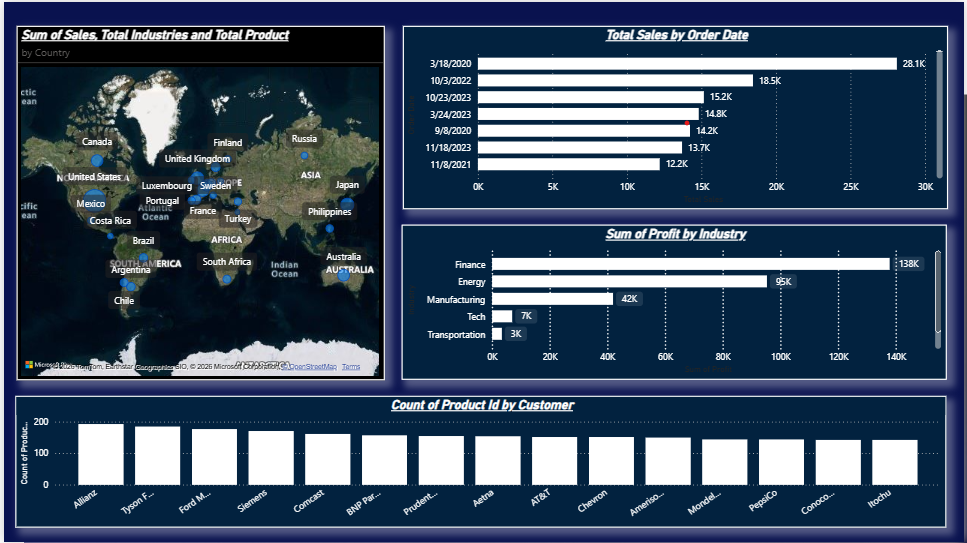

Layout of this report page (visuals, bound fields, positions):
{"tool":"powerbi","page":{"name":"Sales Analysis","canvas":[1280,720],"ordinal":1},"visuals":[{"type":"map","fields":{"Category":["Customer.Country Hierarchy.Country","Customer.Country Hierarchy.City"],"Size":["Sum(Order.Sales)"]},"box":[16.9,31.4,491,472.9],"z":0},{"type":"clusteredBarChart","fields":{"Category":["Products.Industry"],"Y":["Sum(Order.Profit)"]},"box":[529.6,296.8,727.5,207.5],"z":1000},{"type":"clusteredBarChart","fields":{"Category":["Order.Order Date"],"Y":["Sum(Order.Sales)"]},"box":[530.8,31.4,727.5,244.9],"z":2000},{"type":"columnChart","fields":{"Category":["Customer.Customer"],"Y":["CountNonNull(Order.Product Id)"]},"box":[15.7,524.8,1241.4,176.1],"z":2001}]}

Visuals, with their boxes in screenshot pixels (x1, y1, x2, y2), scaled from the page's 1280x720 canvas onto the 967x543 screenshot:
map - Customer.Country Hierarchy.Country x Customer.Country Hierarchy.City: [x1=13, y1=24, x2=384, y2=380]
clusteredBarChart - Products.Industry x Sum(Order.Profit): [x1=400, y1=224, x2=950, y2=380]
clusteredBarChart - Order.Order Date x Sum(Order.Sales): [x1=401, y1=24, x2=951, y2=208]
columnChart - Customer.Customer x CountNonNull(Order.Product Id): [x1=12, y1=396, x2=950, y2=529]
